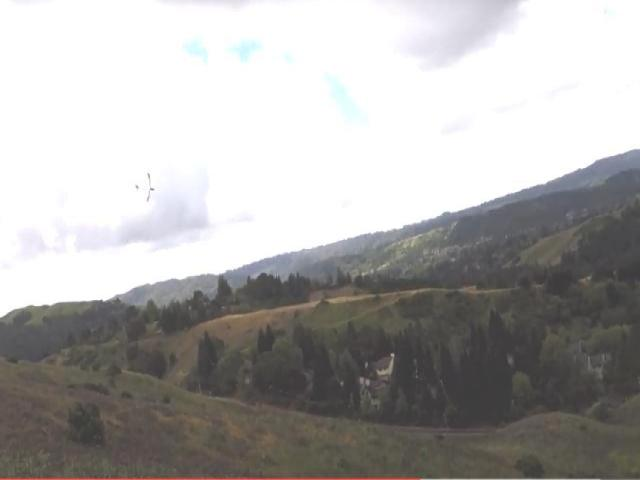iha: (135, 173, 159, 205)
